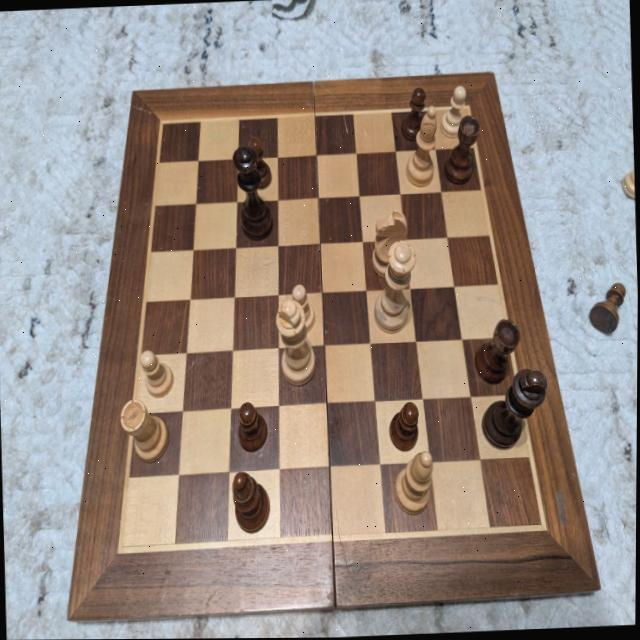black_bishop: (231, 469, 273, 534)
black_king: (479, 367, 549, 449)
black_pawn: (236, 401, 269, 453), (398, 86, 428, 143), (389, 402, 422, 453), (249, 134, 273, 191)
black_queen: (233, 142, 275, 243)
black_rook: (472, 319, 521, 386), (441, 114, 481, 185)
white_bishop: (392, 449, 436, 516), (403, 105, 439, 186)
white_king: (274, 298, 318, 387)
white_knight: (371, 208, 409, 278)
white_pawn: (140, 347, 176, 399), (438, 85, 469, 139), (290, 282, 316, 331)
white_queen: (371, 239, 417, 332)
white_rook: (119, 395, 170, 464)
